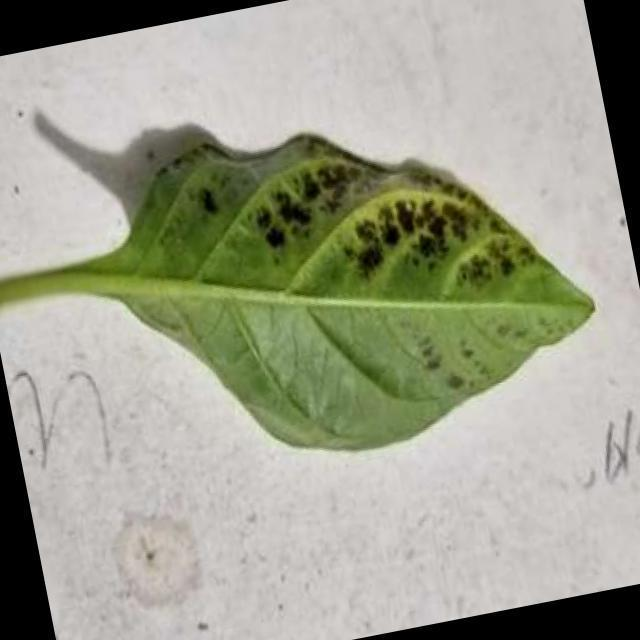Bacterial Spot: (188, 116, 540, 334)
